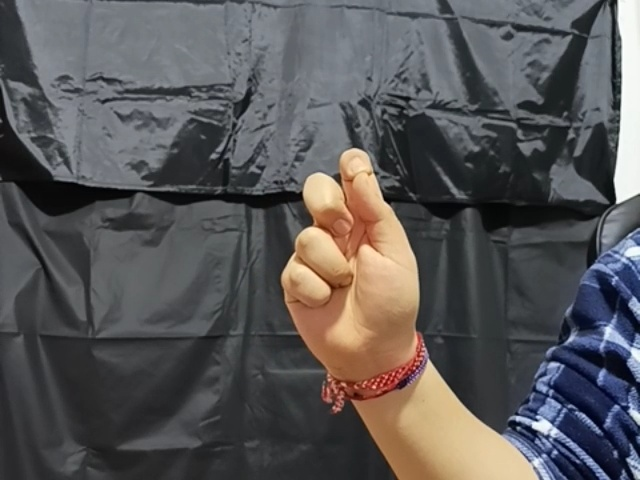T: (276, 141, 422, 361)
